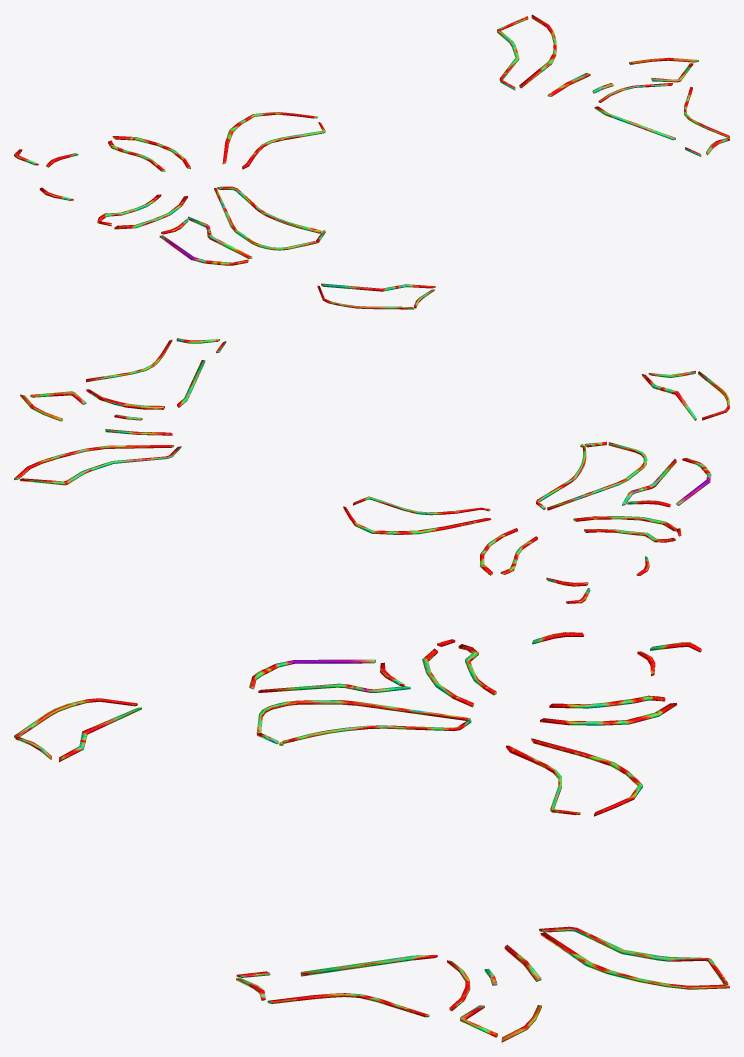
The model's file is BordureAll.fbx.
3 renders of one model, top to bottom at view 1: azimuth 30°, elevation 25°; view 2: azimuth 150°, elevation 25°; view 3: azimuth 270°, elevation 25°, orthographic. The views are drawn at different scales.
Visible parts, largest first — view 1: BordureTemple01, BordureTemple04; view 2: BordureMont01bis, BordureTemple04, BordureMont01, BordureTemple01, BordureMarais02, BordureTemple03, BordureTemple04.004; view 3: BordureTemple01, BordureMont01bis, BordureMont01, BordureTemple04, BordureMont01bis.003, BordureMarais02, BordureTemple02, BordureMont01.007, BordureTemple04.001, BordureTemple06, BordureTemple05.
Part boxes in pixels (bbox=[...]): BordureTemple01: bbox=[214, 188, 317, 250]; BordureTemple04: bbox=[222, 112, 317, 164]; BordureMont01bis: bbox=[20, 446, 181, 485]; BordureTemple04: bbox=[343, 506, 491, 534]; BordureMont01: bbox=[14, 445, 174, 480]; BordureTemple01: bbox=[547, 442, 647, 510]; BordureMarais02: bbox=[648, 370, 729, 420]; BordureTemple03: bbox=[353, 496, 490, 515]; BordureTemple04.004: bbox=[573, 516, 677, 531]; BordureTemple01: bbox=[256, 700, 470, 733]; BordureMont01bis: bbox=[539, 926, 728, 984]; BordureMont01: bbox=[540, 932, 729, 989]; BordureTemple04: bbox=[531, 738, 642, 816]; BordureMont01bis.003: bbox=[236, 955, 437, 977]; BordureMarais02: bbox=[14, 698, 137, 759]; BordureTemple02: bbox=[282, 720, 471, 743]; BordureMont01.007: bbox=[267, 993, 429, 1017]; BordureTemple04.001: bbox=[540, 703, 676, 725]; BordureTemple06: bbox=[249, 659, 375, 689]; BordureTemple05: bbox=[258, 683, 410, 692].
Bounding box in the file's own units: 8669 × 78.18 × 6476.
